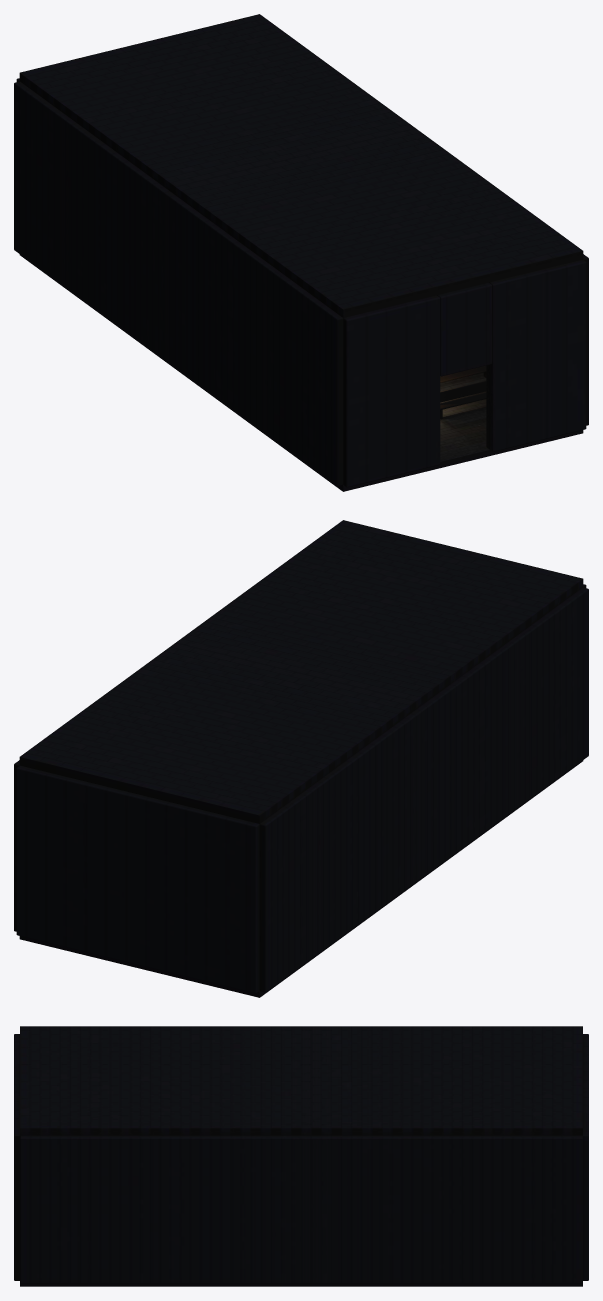
Rendered from sacratorium.glb.
3 views of the same model, one above another, from view 1: azimuth 30°, elevation 25°; view 2: azimuth 150°, elevation 25°; view 3: azimuth 270°, elevation 25° (orthographic). The views are drawn at different scales.
Parts seen in each view (by area): view 1: Shell, Furniture; view 2: Shell; view 3: Shell.
Part boxes in pixels (x1=…): Shell: x1=14, y1=14, x2=588, y2=491; Furniture: x1=440, y1=365, x2=486, y2=419; Shell: x1=14, y1=520, x2=588, y2=997; Shell: x1=14, y1=1026, x2=588, y2=1286.
Bounding box in the file's own units: 12.6 × 8.7 × 28.6.
Materials: 4 (2 with a texture image).
